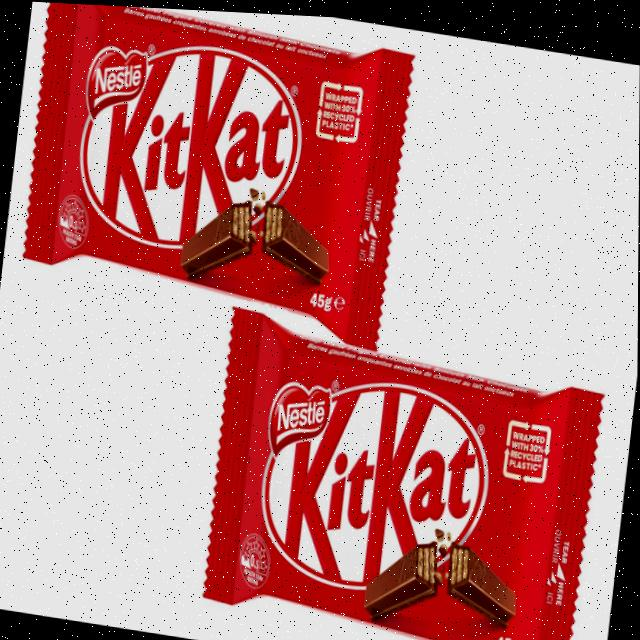kitkat: (15, 1, 418, 350), (196, 299, 605, 640)
